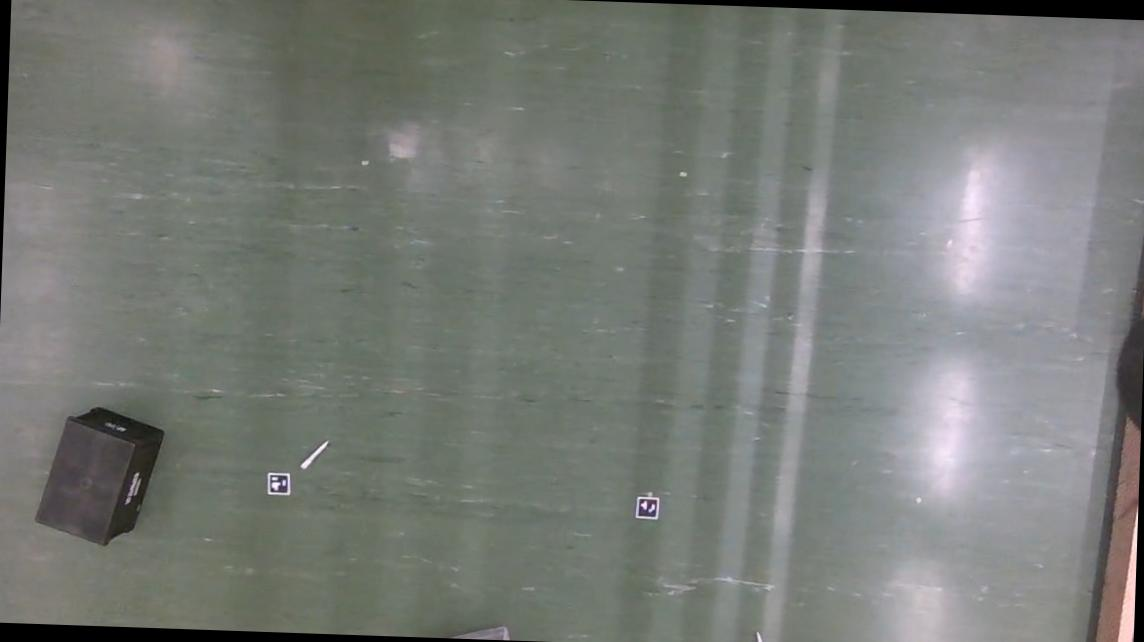probes: (302, 438, 328, 468), (756, 631, 768, 642)
rako: (34, 401, 166, 545), (430, 622, 521, 640)
